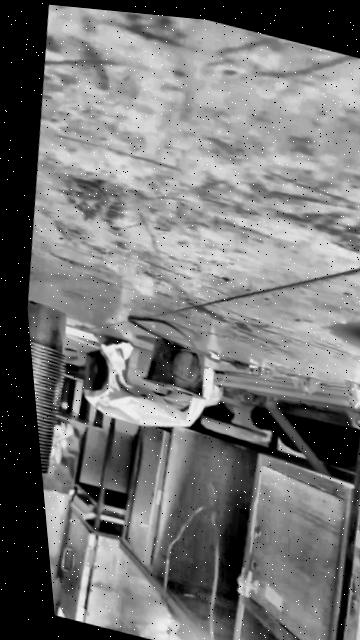pot: (135, 334, 212, 401), (27, 300, 72, 362), (345, 320, 360, 432)
